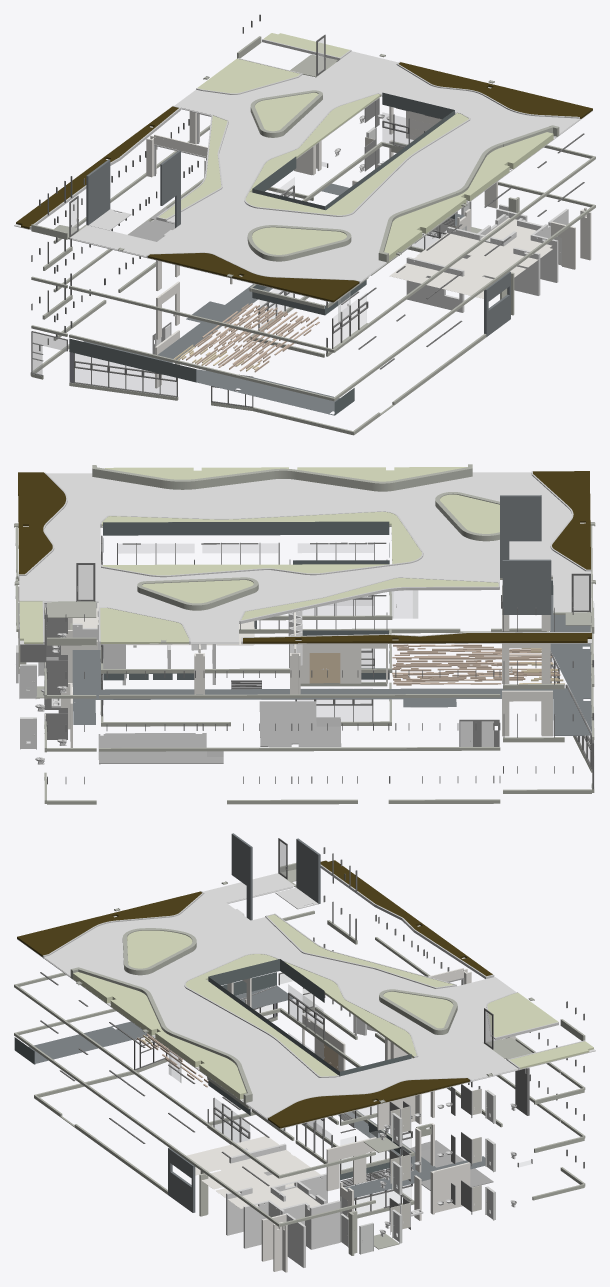
Rendered from pt102-l1t1-1542-102-con-ed-arq-mo-0001-r02.glb.
3 views of the same model, one above another, from view 1: azimuth 30°, elevation 25°; view 2: azimuth 150°, elevation 25°; view 3: azimuth 270°, elevation 25° (orthographic). The views are drawn at different scales.
Visible parts, largest first — view 1: 2PlgUPA4572Q$JlGMJ16Zr, 2MFnDoTZf3xQTSSS3ePUYO, 2Z$m_vIIv4Cf4EGSqdlwUD, 2Z$m_vIIv4Cf4EGSqdlwR5, 2Z$m_vIIv4Cf4EGSqdlxem, 2Z$m_vIIv4Cf4EGSqdlwGa, 099sfuo1zDBhuvHOdet$93, 2aSWXKoR9BpuCHOFncBx_q, 2Z$m_vIIv4Cf4EGSqdlwOe, 2PlgUPA4572Q$JlGUJ1592, 2aSWXKoR9BpuCHOFncBx0g, 2Z$m_vIIv4Cf4EGSqdlwM4 (+21 smaller); view 2: 2PlgUPA4572Q$JlGMJ16Zr, 099sfuo1zDBhuvHOdet$93, 2Z$m_vIIv4Cf4EGSqdlxem, 11xtIa76H8AeB$ese8V8iv, 11xtIa76H8AeB$ese8VVDc, 2Z$m_vIIv4Cf4EGSqdlwM4, 2Z$m_vIIv4Cf4EGSqdlwR5, 2Z$m_vIIv4Cf4EGSqdlwUD, 2PlgUPA4572Q$JlGMJ16aB, 2Z$m_vIIv4Cf4EGSqdlwGa, 2aSWXKoR9BpuCHOFncBx_q, 2Z$m_vIIv4Cf4EGSqdlwOe (+44 smaller); view 3: 2PlgUPA4572Q$JlGMJ16Zr, 2MFnDoTZf3xQTSSS3ePUYO, 2Z$m_vIIv4Cf4EGSqdlwUD, 2Z$m_vIIv4Cf4EGSqdlxem, 2Z$m_vIIv4Cf4EGSqdlwR5, 2Z$m_vIIv4Cf4EGSqdlwGa, 099sfuo1zDBhuvHOdet$93, 2aSWXKoR9BpuCHOFncBx_q, 2Z$m_vIIv4Cf4EGSqdlwOe, 2Z$m_vIIv4Cf4EGSqdlwM4, 2PlgUPA4572Q$JlGUJ1592, 2Z$m_vIIv4Cf4EGSqdlwST (+23 smaller).
Part boxes in pixels (bbox=[...]): 2PlgUPA4572Q$JlGMJ16Zr: bbox=[70, 51, 579, 281]; 2MFnDoTZf3xQTSSS3ePUYO: bbox=[389, 218, 552, 298]; 2Z$m_vIIv4Cf4EGSqdlwUD: bbox=[384, 132, 553, 260]; 2Z$m_vIIv4Cf4EGSqdlwR5: bbox=[148, 253, 359, 302]; 2Z$m_vIIv4Cf4EGSqdlxem: bbox=[399, 62, 592, 118]; 2Z$m_vIIv4Cf4EGSqdlwGa: bbox=[245, 113, 468, 215]; 099sfuo1zDBhuvHOdet$93: bbox=[83, 183, 464, 362]; 2aSWXKoR9BpuCHOFncBx_q: bbox=[196, 369, 339, 415]; 2Z$m_vIIv4Cf4EGSqdlwOe: bbox=[197, 58, 299, 93]; 2PlgUPA4572Q$JlGUJ1592: bbox=[252, 227, 346, 254]; 2aSWXKoR9BpuCHOFncBx0g: bbox=[69, 338, 196, 382]; 2Z$m_vIIv4Cf4EGSqdlwM4: bbox=[16, 106, 178, 228]; 2PlgUPA4572Q$JlGMJ16Zr: bbox=[19, 472, 591, 642]; 099sfuo1zDBhuvHOdet$93: bbox=[72, 650, 590, 735]; 2Z$m_vIIv4Cf4EGSqdlxem: bbox=[18, 472, 65, 574]; 11xtIa76H8AeB$ese8V8iv: bbox=[98, 733, 223, 764]; 11xtIa76H8AeB$ese8VVDc: bbox=[259, 701, 341, 746]; 2Z$m_vIIv4Cf4EGSqdlwM4: bbox=[243, 633, 591, 643]; 2Z$m_vIIv4Cf4EGSqdlwR5: bbox=[533, 471, 590, 569]; 2Z$m_vIIv4Cf4EGSqdlwUD: bbox=[104, 467, 467, 481]; 2PlgUPA4572Q$JlGMJ16aB: bbox=[502, 559, 551, 614]; 2Z$m_vIIv4Cf4EGSqdlwGa: bbox=[102, 511, 421, 563]; 2aSWXKoR9BpuCHOFncBx_q: bbox=[549, 595, 591, 732]; 2Z$m_vIIv4Cf4EGSqdlwOe: bbox=[100, 608, 188, 643]; 2PlgUPA4572Q$JlGMJ16Zr: bbox=[44, 873, 518, 1118]; 2MFnDoTZf3xQTSSS3ePUYO: bbox=[186, 1136, 320, 1208]; 2Z$m_vIIv4Cf4EGSqdlwUD: bbox=[73, 972, 246, 1099]; 2Z$m_vIIv4Cf4EGSqdlxem: bbox=[268, 1078, 469, 1128]; 2Z$m_vIIv4Cf4EGSqdlwR5: bbox=[17, 891, 201, 956]; 2Z$m_vIIv4Cf4EGSqdlwGa: bbox=[185, 954, 337, 1076]; 099sfuo1zDBhuvHOdet$93: bbox=[241, 986, 485, 1197]; 2aSWXKoR9BpuCHOFncBx_q: bbox=[29, 986, 274, 1064]; 2Z$m_vIIv4Cf4EGSqdlwOe: bbox=[487, 993, 558, 1037]; 2Z$m_vIIv4Cf4EGSqdlwM4: bbox=[320, 860, 492, 976]; 2PlgUPA4572Q$JlGUJ1592: bbox=[127, 930, 192, 968]; 2Z$m_vIIv4Cf4EGSqdlwST: bbox=[285, 962, 416, 1057].
Bounding box in the file's own units: 45.45 × 17.26 × 41.49.
